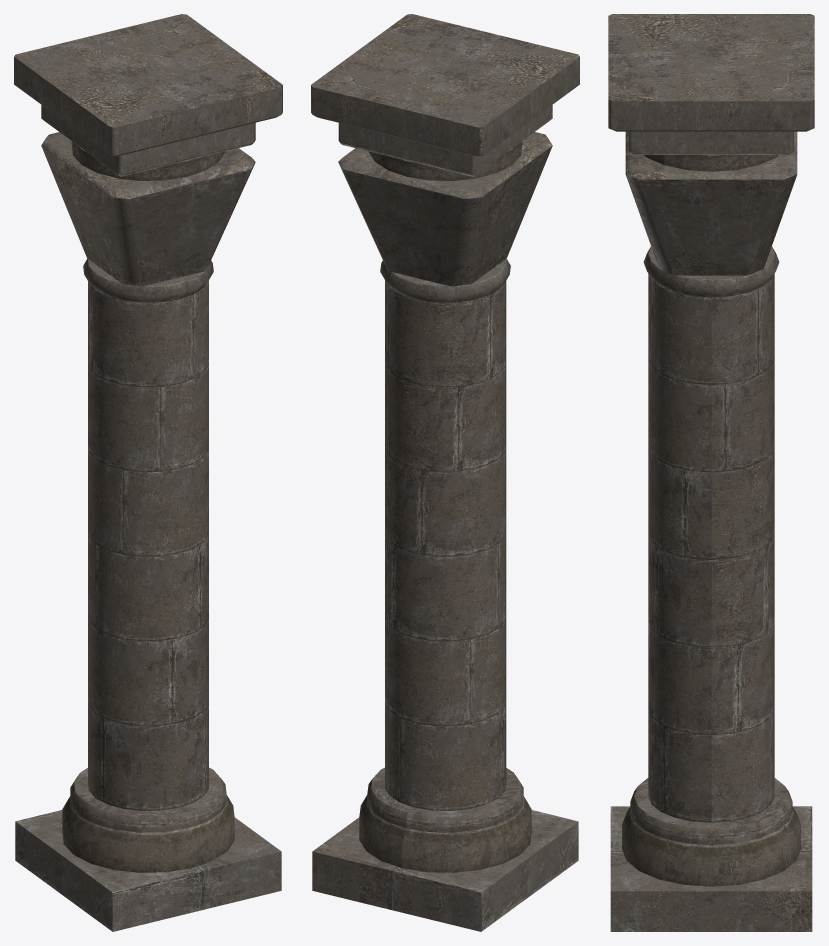
File: Column_small1.fbx
The picture shows the model from 3 angles, left to right: view 1: azimuth 30°, elevation 25°; view 2: azimuth 150°, elevation 25°; view 3: azimuth 270°, elevation 25°; orthographic projection. The views are drawn at different scales.
Visible parts, largest first — view 1: Column_small_01; view 2: Column_small_01; view 3: Column_small_01.
Part boxes in pixels (box(x1,y1,x2,y2)): Column_small_01: box(14, 14, 282, 931); Column_small_01: box(311, 14, 579, 931); Column_small_01: box(608, 14, 814, 931).
Bounding box in the file's own units: 92.17 × 410 × 92.17.
